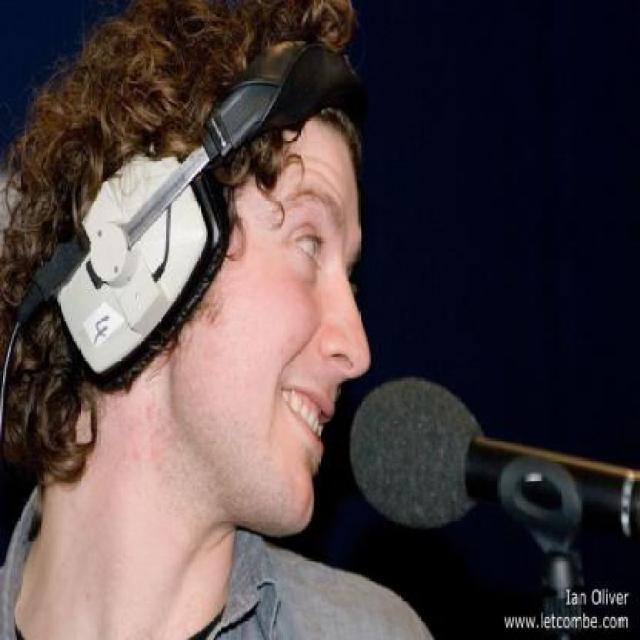earphone: (16, 40, 396, 360)
